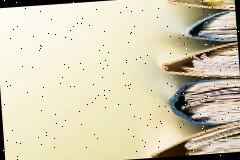paper: (167, 76, 240, 128), (148, 120, 240, 158), (161, 41, 240, 82), (186, 10, 237, 44), (167, 0, 235, 14), (199, 0, 234, 11)
